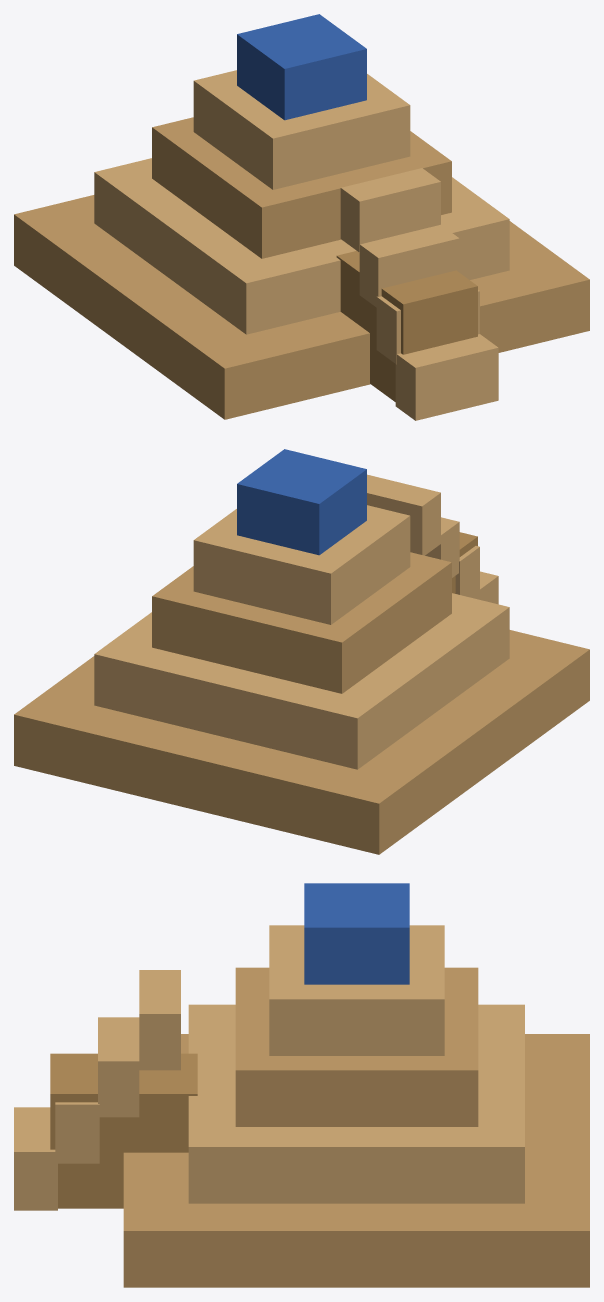
File: improvement_ziggurat.fbx
3 views of the same model, one above another, from view 1: azimuth 30°, elevation 25°; view 2: azimuth 150°, elevation 25°; view 3: azimuth 270°, elevation 25° (orthographic). The views are drawn at different scales.
Visible parts, largest first — view 1: improvement_ziggurat_zig2_01, improvement_ziggurat_zig_00, improvement_ziggurat_zigtemple_02, improvement_ziggurat_zigramp_03; view 2: improvement_ziggurat_zig_00, improvement_ziggurat_zig2_01, improvement_ziggurat_zigtemple_02; view 3: improvement_ziggurat_zig_00, improvement_ziggurat_zig2_01, improvement_ziggurat_zigramp_03, improvement_ziggurat_zigtemple_02.
Boxes of the visible parts, box(x1,y1,x2,y2) form: improvement_ziggurat_zig2_01: box(94, 70, 509, 420); improvement_ziggurat_zig_00: box(14, 117, 589, 419); improvement_ziggurat_zigtemple_02: box(237, 14, 366, 120); improvement_ziggurat_zigramp_03: box(336, 251, 477, 401); improvement_ziggurat_zig_00: box(14, 552, 589, 854); improvement_ziggurat_zig2_01: box(94, 474, 509, 769); improvement_ziggurat_zigtemple_02: box(237, 449, 366, 555); improvement_ziggurat_zig_00: box(123, 967, 589, 1287); improvement_ziggurat_zig2_01: box(14, 925, 524, 1210); improvement_ziggurat_zigramp_03: box(50, 1053, 197, 1208); improvement_ziggurat_zigtemple_02: box(304, 883, 409, 984).
Size of the model in its own units: 90.07 by 60.49 by 111.
